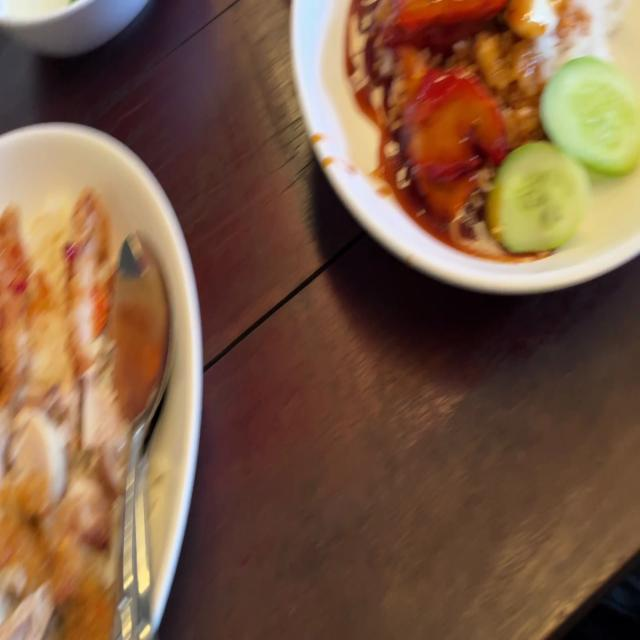01red_pork: (406, 70, 495, 202), (385, 0, 506, 40)
01red_pork_and_crispy_pork: (332, 0, 640, 247)
boiled_chicken: (0, 407, 118, 640)
chicken_rice: (0, 187, 141, 640)
cucumber: (540, 67, 638, 177), (492, 139, 588, 246)
fried_chicken: (58, 190, 118, 437), (0, 200, 53, 397)
